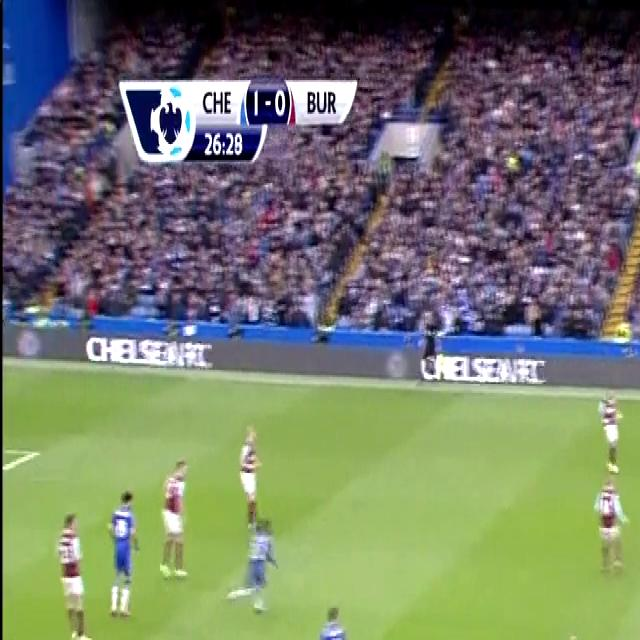referee: (413, 300, 449, 393)
soccer-player: (48, 498, 98, 640), (152, 442, 193, 588), (102, 481, 142, 624), (233, 508, 280, 622), (588, 470, 630, 583), (233, 416, 266, 534), (595, 385, 625, 486), (307, 594, 356, 640), (557, 622, 596, 640)
